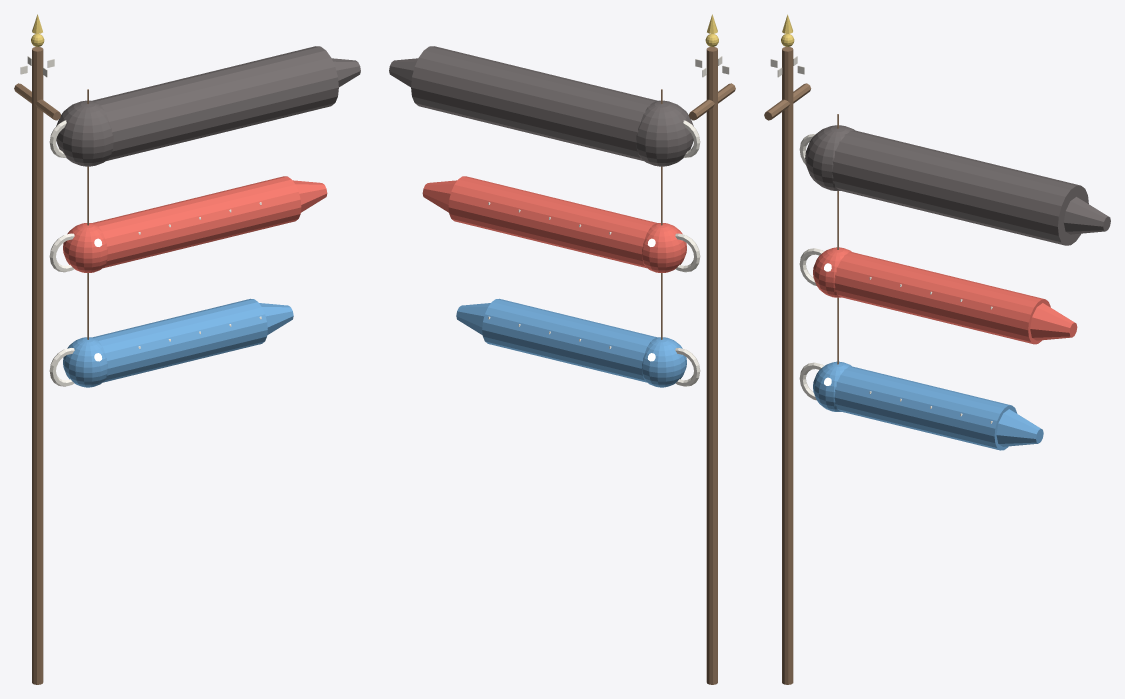
Rendered from koinobori.glb.
3 views of the same model, side by side, from view 1: azimuth 30°, elevation 25°; view 2: azimuth 150°, elevation 25°; view 3: azimuth 330°, elevation 25° (orthographic).
Parts seen in each view (by area): view 1: koinobori; view 2: koinobori; view 3: koinobori.
Part boxes in pixels (box(x1,y1,x2,y2)): koinobori: box(14, 14, 360, 684); koinobori: box(389, 14, 735, 684); koinobori: box(764, 14, 1110, 684).
Size of the model in its own units: 2 by 3.8 by 0.4.
